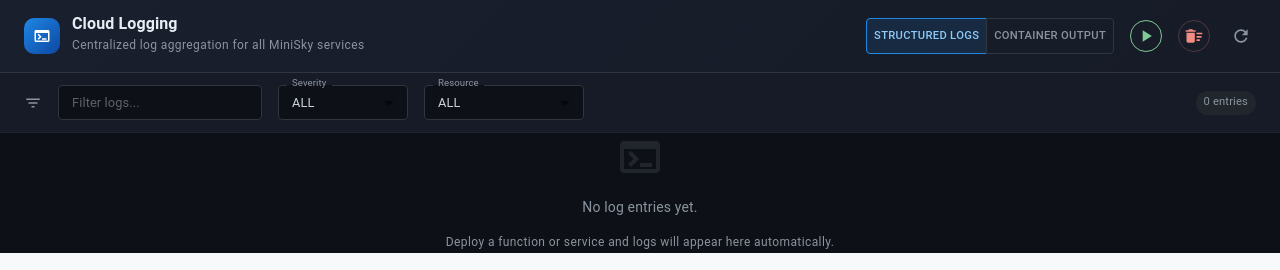
LogExplorer failures › discards a superseded container-log response
Click the button "Container Output" at (1050, 36), box [986, 18, 1114, 54]
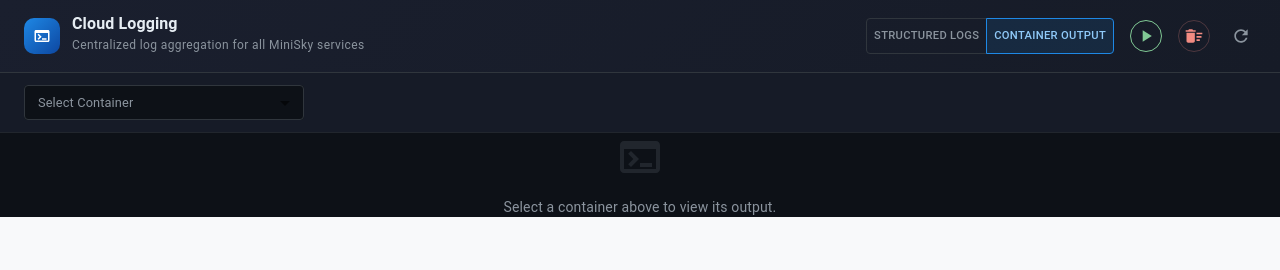
Click the dropdown named "Select Container" at (164, 103), box [24, 85, 304, 120]
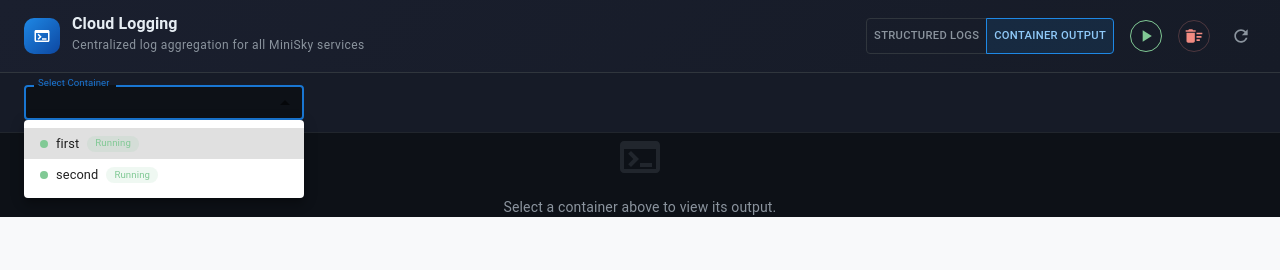
Click the option "first Running" at (113, 144), box [24, 128, 304, 159]
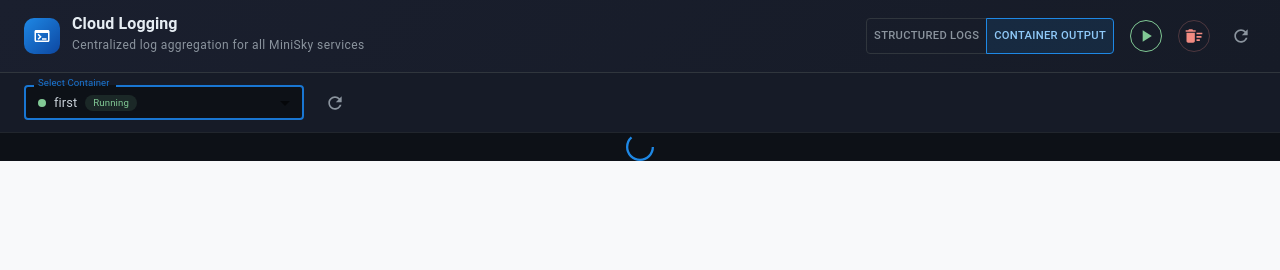
Click the dropdown named "Select Container" at (88, 103), box [38, 94, 137, 111]
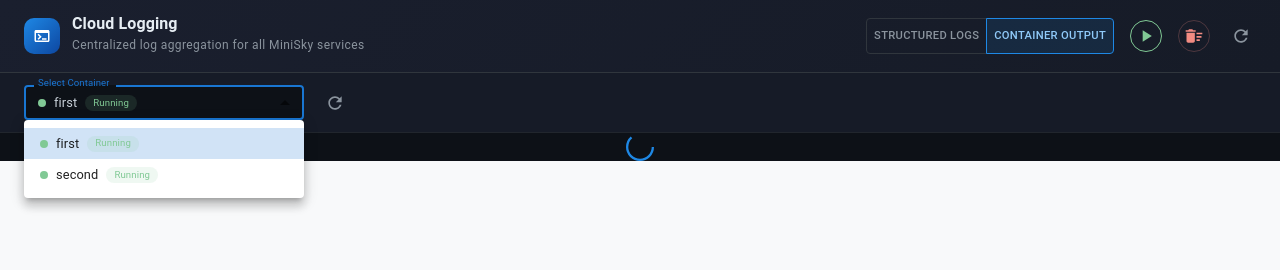
Click the option "second Running" at (99, 175), box [40, 167, 158, 183]
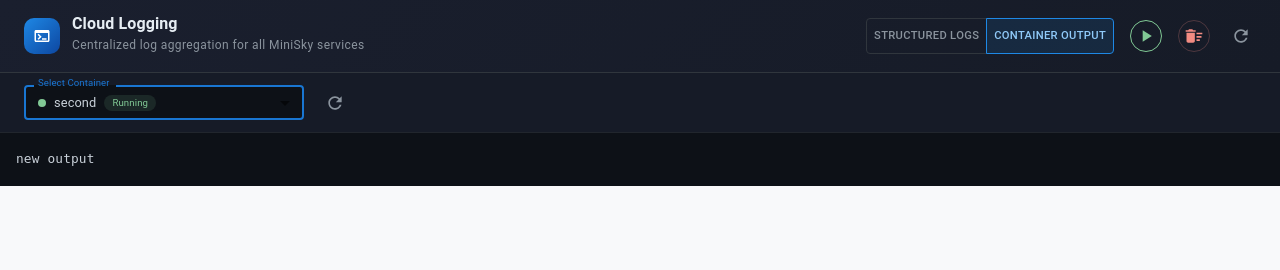
Now the text "new output" is shown, box [16, 151, 94, 166]
